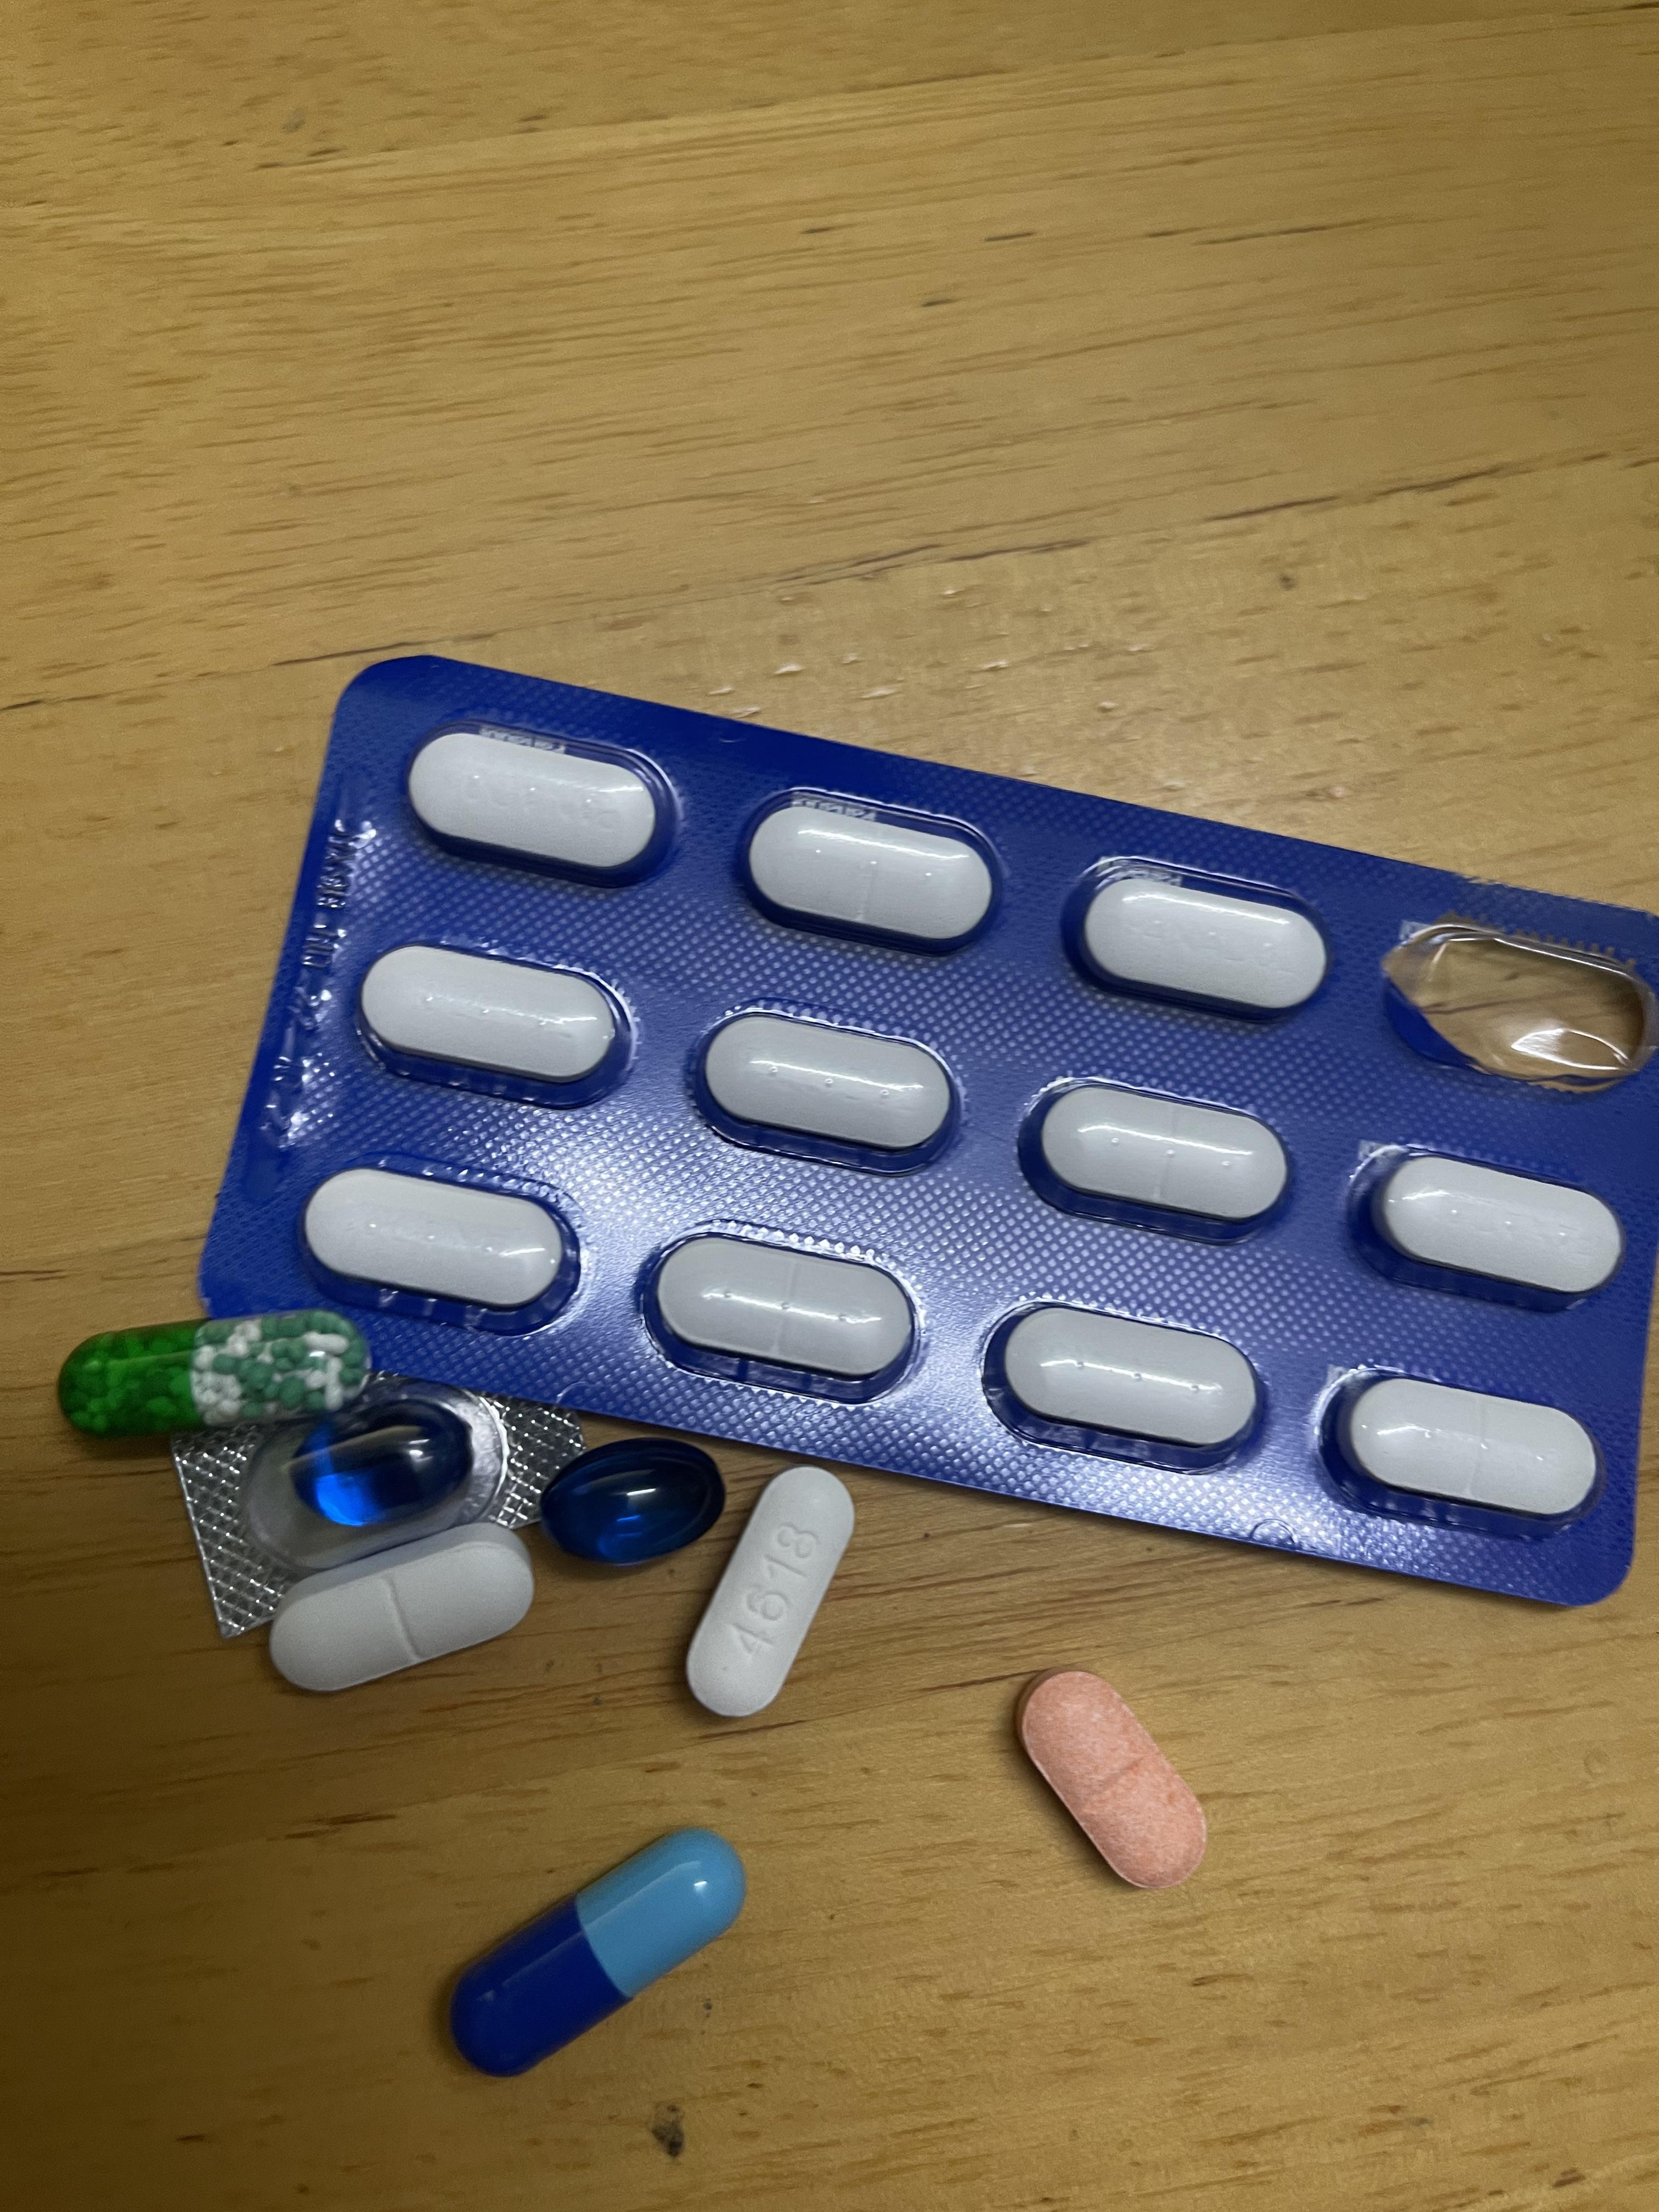Lincomyxin_500mg: (537, 1446, 723, 1569), (300, 1414, 469, 1526)
Loratadine_10mg: (1016, 1665, 1209, 1890)
Paracetamol_350mg: (267, 1515, 538, 1696), (404, 716, 681, 887), (301, 1160, 582, 1327), (1352, 1144, 1635, 1310), (356, 941, 636, 1106), (735, 787, 1011, 953), (993, 1303, 1260, 1467), (692, 1007, 967, 1165), (1061, 853, 1326, 1015), (1025, 1078, 1291, 1237), (648, 1235, 917, 1388), (1337, 1374, 1601, 1521)
Paracetamol_500mg: (683, 1470, 856, 1717)
Paracetamol_650mg: (61, 1315, 364, 1437)
pill: (450, 1829, 741, 2078)
